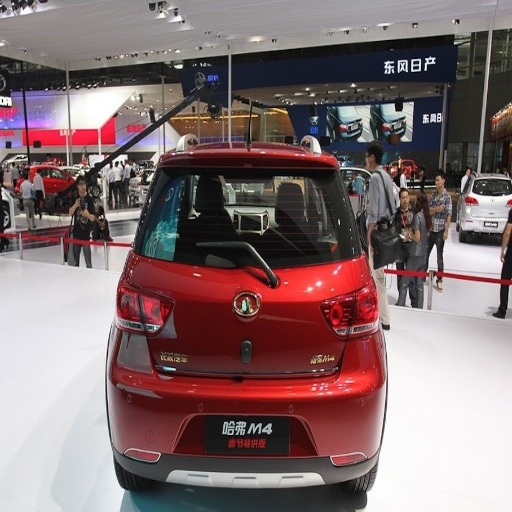back_bumper: (113, 327, 382, 486)
trunk: (131, 262, 364, 405)
